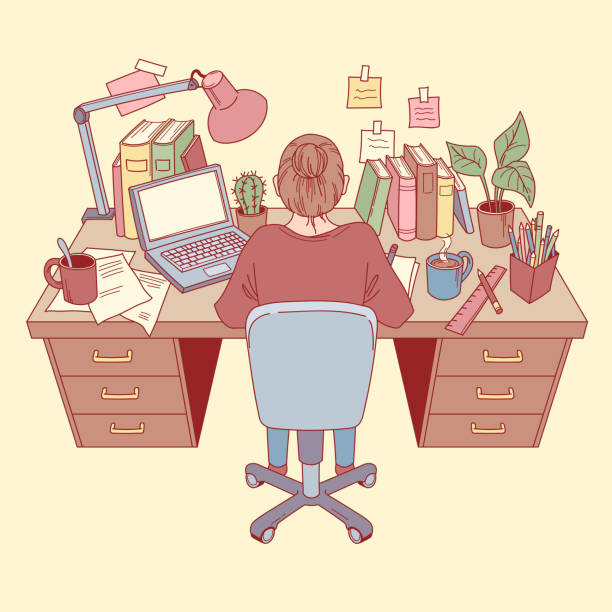not a gesture sign: (21, 469, 579, 612)
